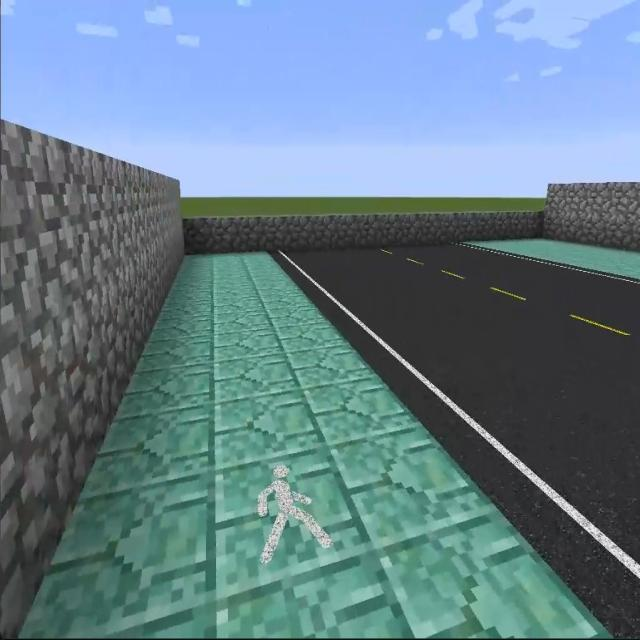road: (276, 238, 634, 614)
sidewalk: (22, 254, 634, 639), (468, 239, 639, 278)
